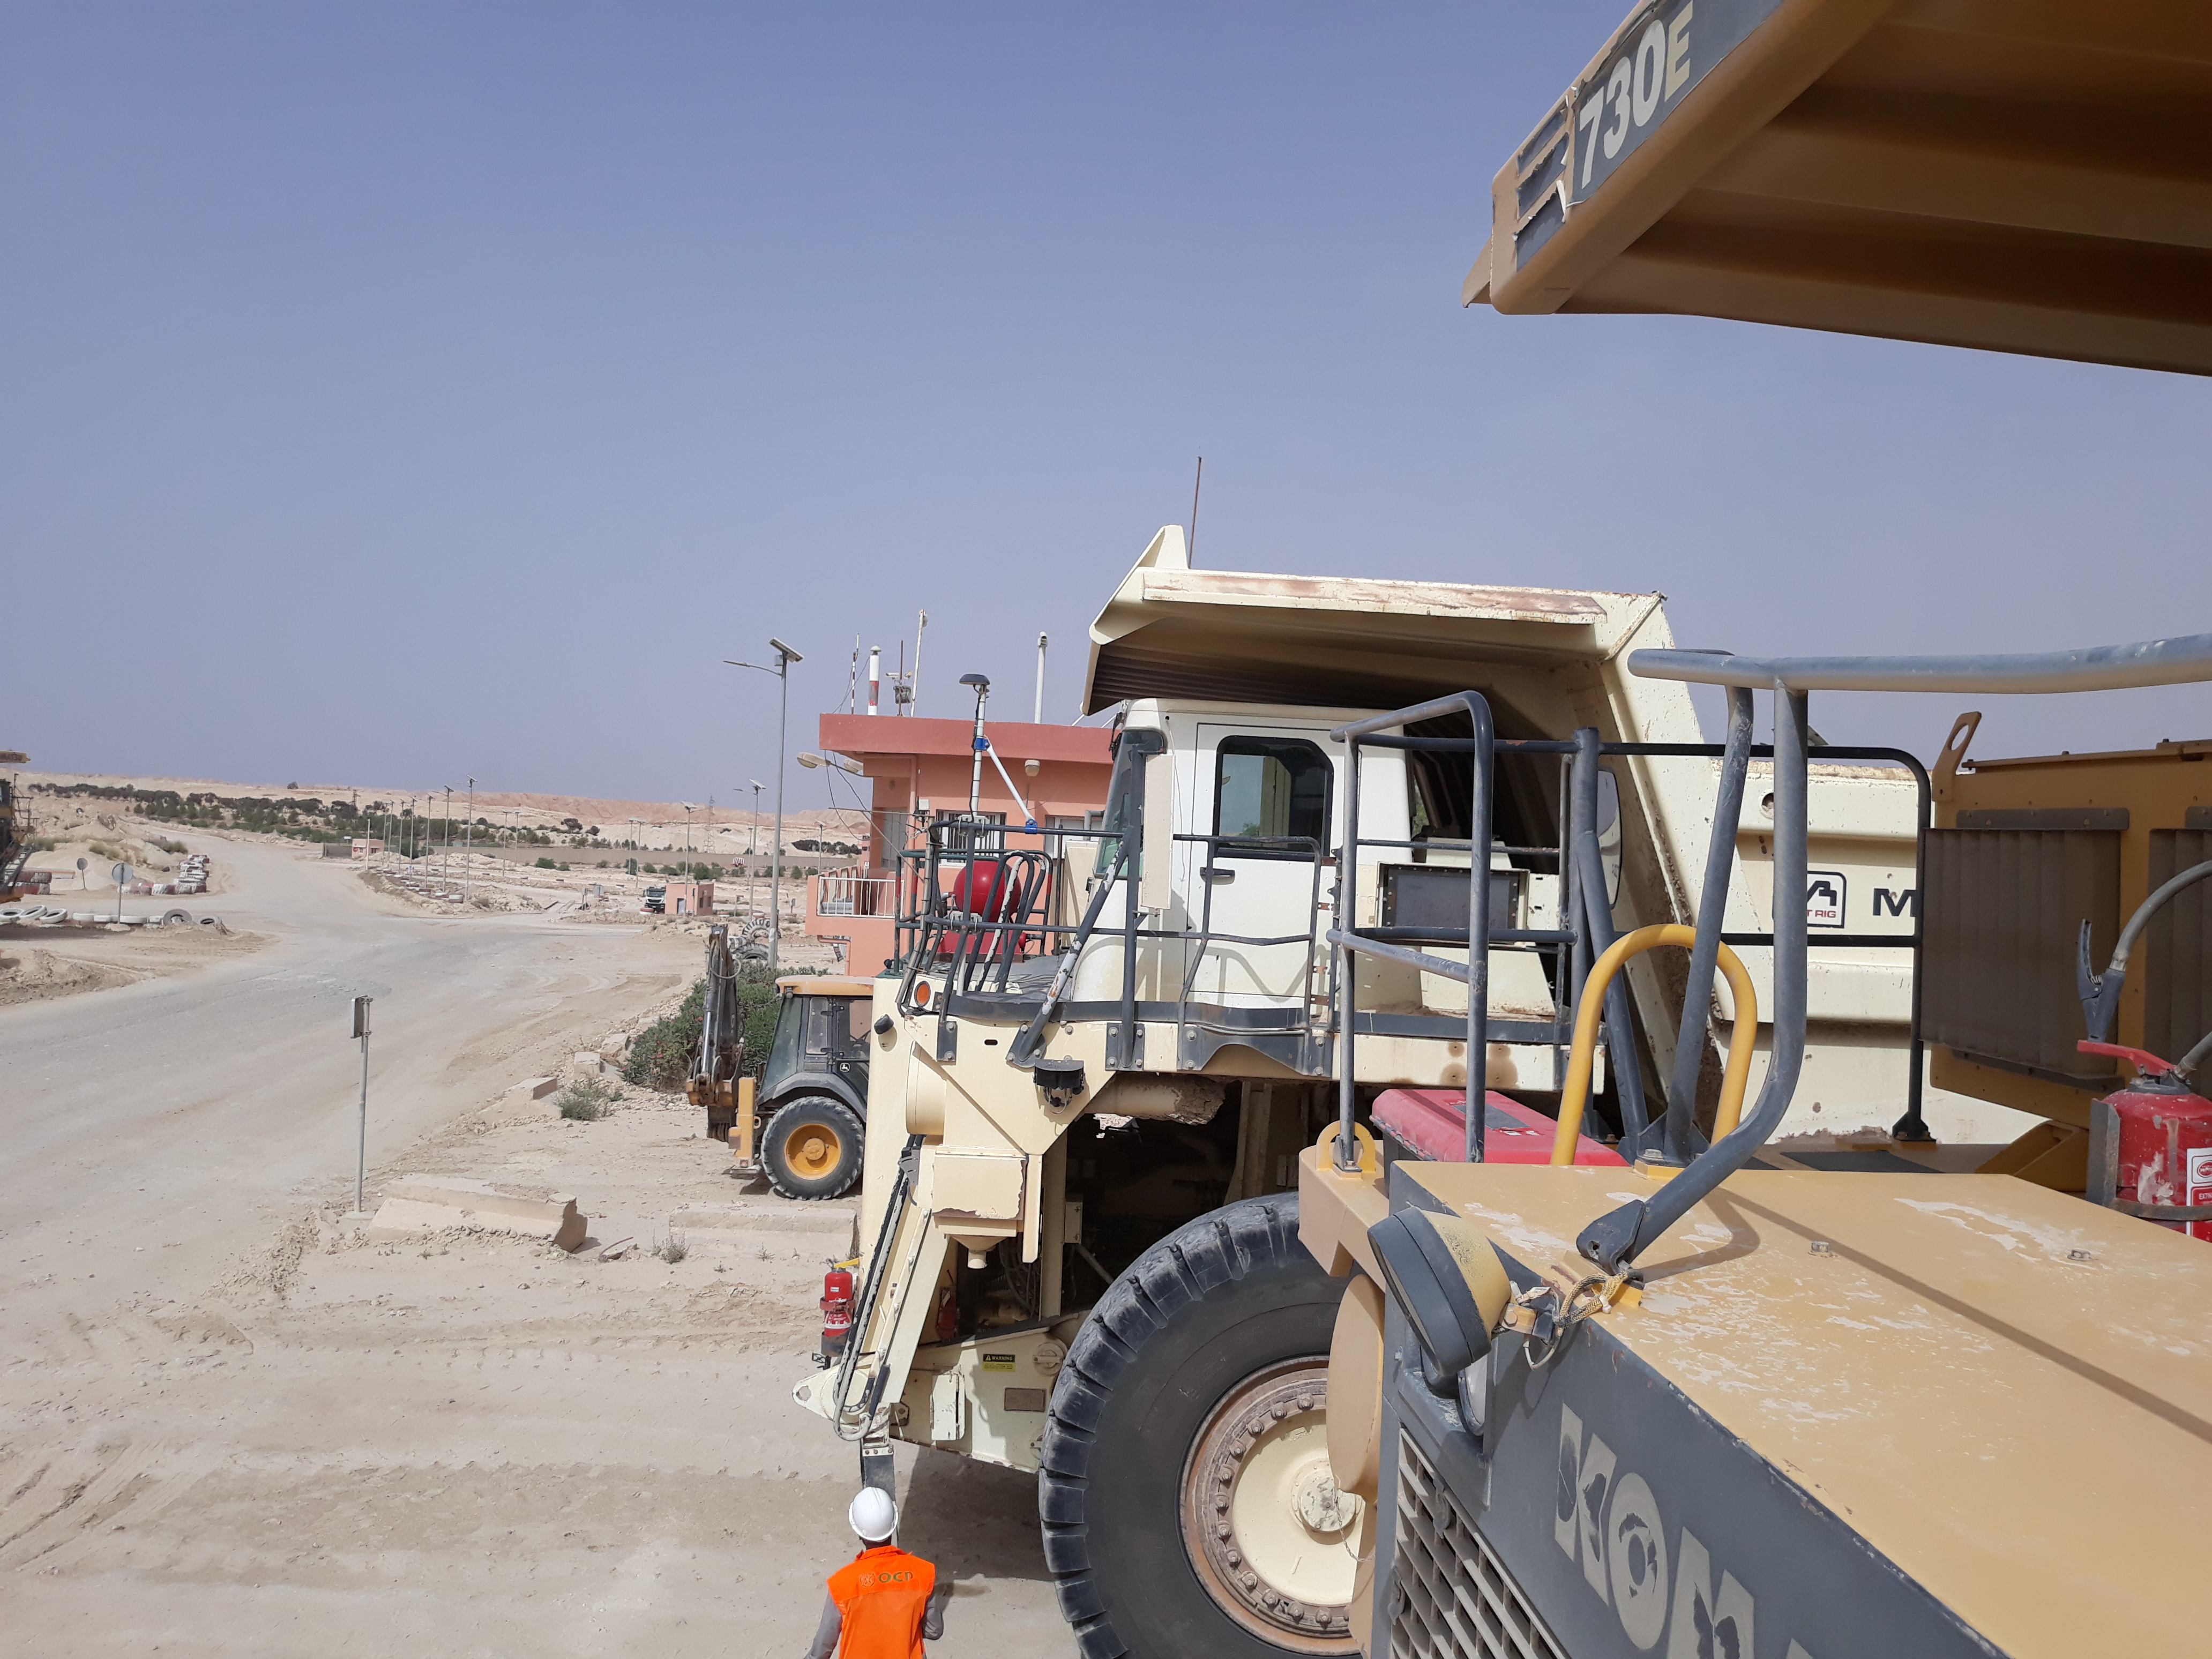camion: (841, 500, 2119, 1659)
person: (814, 1469, 941, 1659)
